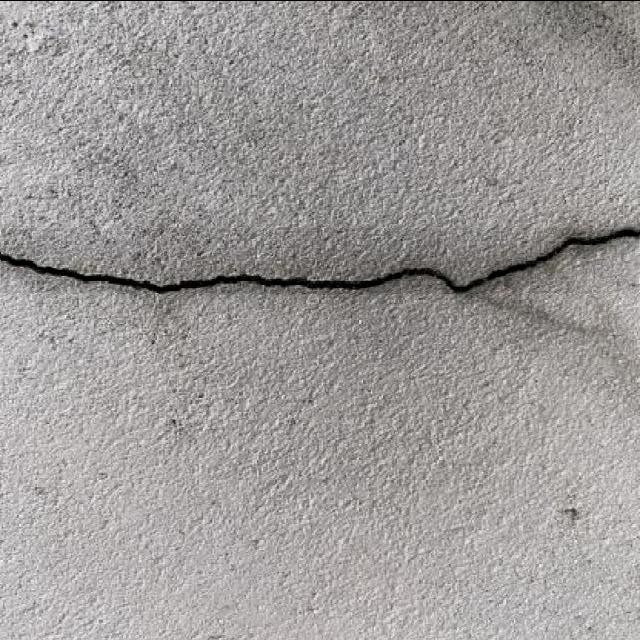crack: (0, 224, 639, 298), (2, 277, 239, 442), (448, 18, 640, 205), (305, 159, 581, 283), (0, 26, 132, 284), (21, 507, 275, 637), (95, 330, 315, 476), (3, 3, 269, 122), (273, 80, 477, 224), (202, 165, 432, 262), (27, 91, 163, 180), (508, 5, 640, 89), (6, 247, 192, 291), (3, 4, 113, 77), (310, 1, 425, 56), (570, 4, 627, 55), (143, 222, 207, 264), (468, 120, 528, 160), (20, 20, 59, 55), (261, 194, 287, 220), (591, 12, 613, 32), (415, 130, 431, 153), (33, 484, 49, 498), (115, 112, 128, 127), (47, 334, 58, 347), (97, 470, 109, 480)
